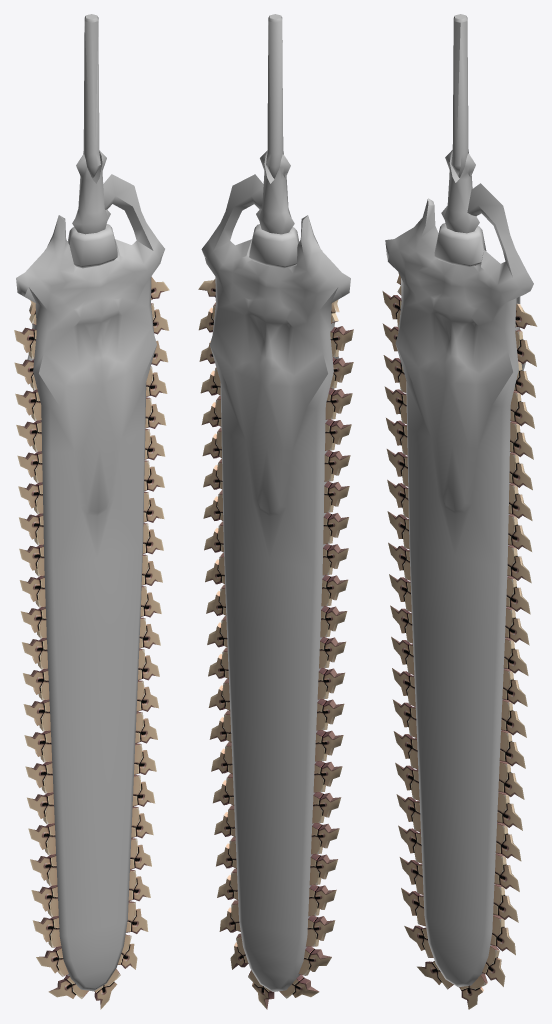
File: 链锯B.fbx
3 renders of one model, left to right at view 1: azimuth 30°, elevation 25°; view 2: azimuth 150°, elevation 25°; view 3: azimuth 330°, elevation 25°, orthographic.
Parts seen in each view (by area): view 1: Body; view 2: Body; view 3: Body.
Boxes of the visible parts, box(x1,y1,x2,y2) form: Body: box(14, 14, 169, 1009); Body: box(198, 14, 353, 1009); Body: box(382, 14, 537, 1009).
Bounding box in the file's own units: 0.3061 × 1.87 × 0.0764.
